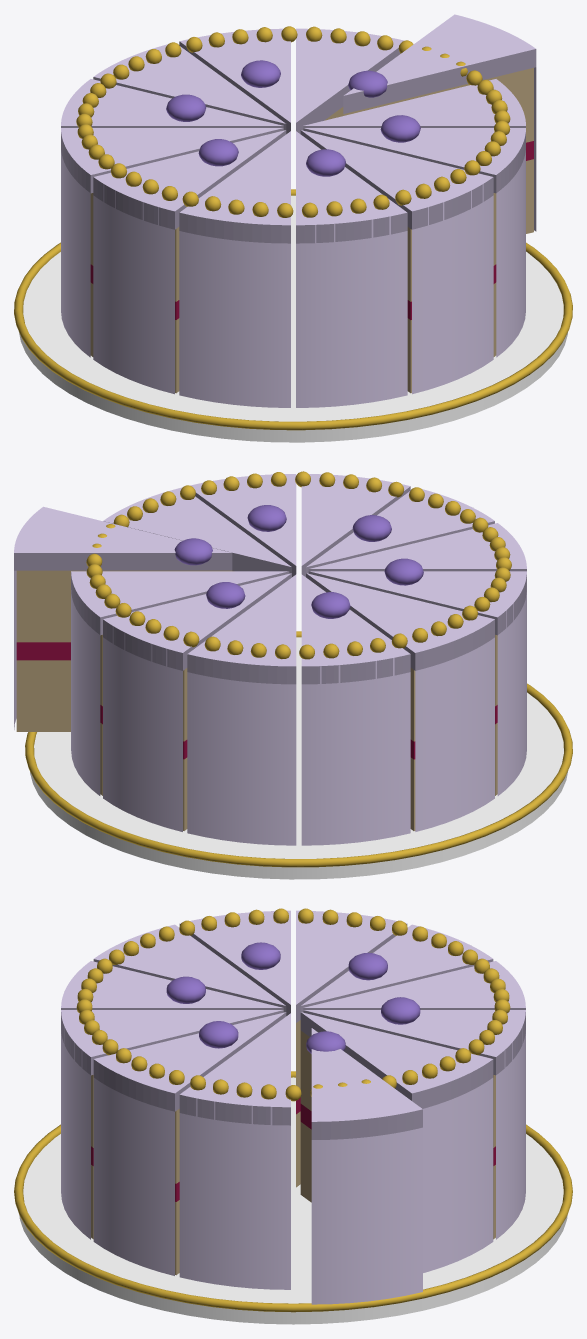
The model's file is torta-24cm-11alto-1p-12porc-lavanda.glb.
The picture shows the model from 3 angles, top to bottom: view 1: azimuth 30°, elevation 25°; view 2: azimuth 150°, elevation 25°; view 3: azimuth 270°, elevation 25°; orthographic projection. The views are drawn at different scales.
Size of the model in its own units: 0.3111 by 0.1316 by 0.305.
